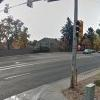Traffic light: (69, 16, 88, 47)
